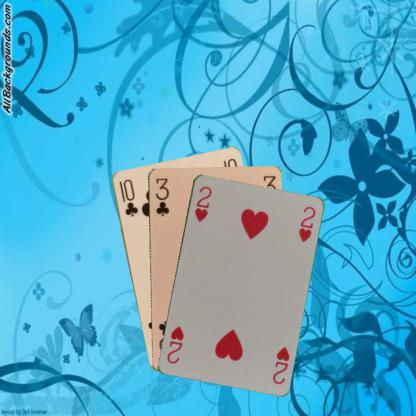10c: (116, 176, 139, 218)
2h: (270, 344, 290, 386), (192, 183, 212, 223)
3c: (152, 175, 170, 217)
